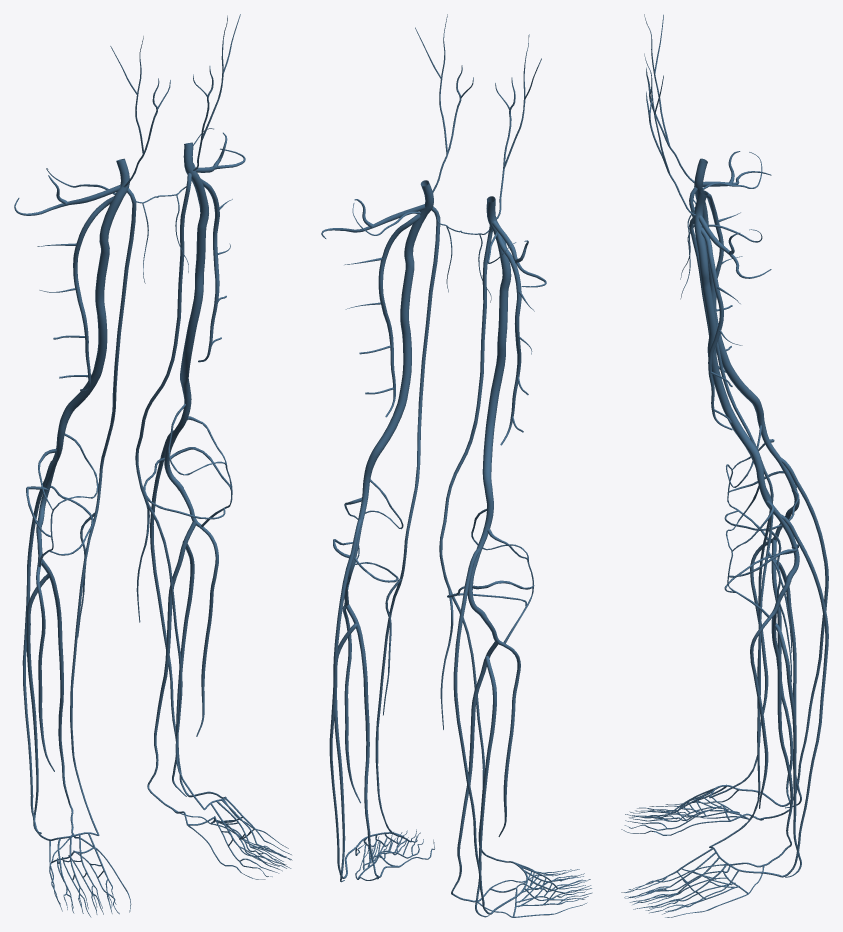
File: venous-lower-limb-mobile.glb
3 renders of one model, left to right at view 1: azimuth 30°, elevation 25°; view 2: azimuth 150°, elevation 25°; view 3: azimuth 270°, elevation 25°, orthographic. The views are drawn at different scales.
Parts seen in each view (by area): view 1: za.great-saphenous-vein-l, za.great-saphenous-vein-r, za.femoral-vein-r, za.femoral-vein-l, za.small-saphenous-vein-r, za.small-saphenous-vein-l, za.genicular-veins-l, za.posterior-tibial-veins-l, za.genicular-veins-r, za.posterior-tibial-veins-r, za.anterior-tibial-veins-l, za.fibular-veins-r (+9 smaller); view 2: za.great-saphenous-vein-l, za.great-saphenous-vein-r, za.femoral-vein-l, za.femoral-vein-r, za.small-saphenous-vein-r, za.small-saphenous-vein-l, za.posterior-tibial-veins-l, za.posterior-tibial-veins-r, za.deep-femoral-vein-l, za.fibular-veins-r, za.deep-femoral-vein-r, za.genicular-veins-r (+9 smaller); view 3: za.femoral-vein-l, za.great-saphenous-vein-l, za.small-saphenous-vein-l, za.great-saphenous-vein-r, za.small-saphenous-vein-r, za.femoral-vein-r, za.posterior-tibial-veins-l, za.fibular-veins-l, za.deep-femoral-vein-l, za.anterior-tibial-veins-l, za.genicular-veins-l, za.popliteal-vein-l (+11 smaller).
Boxes of the visible parts, left/top/right/bottom form: za.great-saphenous-vein-l: left=135, top=173, right=204, bottom=809; za.great-saphenous-vein-r: left=70, top=188, right=136, bottom=835; za.femoral-vein-r: left=71, top=158, right=129, bottom=407; za.femoral-vein-l: left=180, top=142, right=208, bottom=380; za.small-saphenous-vein-r: left=22, top=461, right=51, bottom=833; za.small-saphenous-vein-l: left=150, top=430, right=206, bottom=797; za.genicular-veins-l: left=143, top=404, right=232, bottom=527; za.posterior-tibial-veins-l: left=147, top=521, right=195, bottom=808; za.genicular-veins-r: left=26, top=433, right=98, bottom=566; za.posterior-tibial-veins-r: left=41, top=559, right=73, bottom=832; za.anterior-tibial-veins-l: left=180, top=489, right=218, bottom=736; za.fibular-veins-r: left=26, top=574, right=49, bottom=831; za.great-saphenous-vein-l: left=375, top=206, right=440, bottom=837; za.great-saphenous-vein-r: left=439, top=225, right=506, bottom=862; za.femoral-vein-l: left=376, top=180, right=433, bottom=448; za.femoral-vein-r: left=482, top=196, right=511, bottom=472; za.small-saphenous-vein-r: left=453, top=548, right=509, bottom=914; za.small-saphenous-vein-l: left=329, top=519, right=361, bottom=878; za.posterior-tibial-veins-l: left=345, top=604, right=378, bottom=879; za.posterior-tibial-veins-r: left=451, top=641, right=498, bottom=902; za.deep-femoral-vein-l: left=378, top=214, right=420, bottom=417; za.fibular-veins-r: left=475, top=655, right=496, bottom=917; za.deep-femoral-vein-r: left=496, top=233, right=521, bottom=445; za.genicular-veins-r: left=447, top=508, right=534, bottom=643; za.femoral-vein-l: left=694, top=190, right=755, bottom=451; za.great-saphenous-vein-l: left=689, top=216, right=791, bottom=846; za.small-saphenous-vein-l: left=764, top=514, right=828, bottom=877; za.great-saphenous-vein-r: left=689, top=187, right=791, bottom=798; za.small-saphenous-vein-r: left=764, top=457, right=828, bottom=806; za.femoral-vein-r: left=694, top=158, right=755, bottom=401; za.posterior-tibial-veins-l: left=765, top=612, right=793, bottom=865; za.fibular-veins-l: left=774, top=623, right=801, bottom=877; za.deep-femoral-vein-l: left=701, top=227, right=732, bottom=430; za.anterior-tibial-veins-l: left=750, top=581, right=790, bottom=808; za.genicular-veins-l: left=724, top=485, right=798, bottom=617; za.popliteal-vein-l: left=749, top=446, right=799, bottom=581.
Bounding box in the file's own units: 0.2926 × 1.06 × 0.2404.
